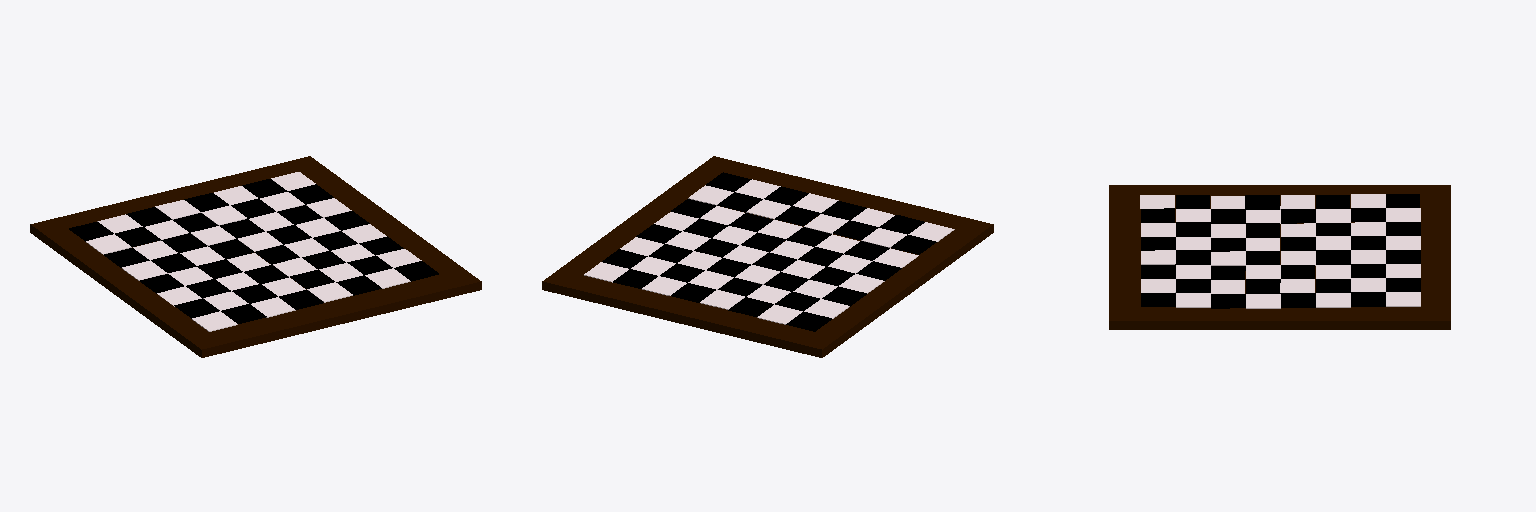
File: chessboardwhitenomarblejoin.obj
3 renders of one model, left to right at view 1: azimuth 30°, elevation 25°; view 2: azimuth 150°, elevation 25°; view 3: azimuth 270°, elevation 25°, orthographic.
Visible parts, largest first — view 1: Cube.049_Cube.168, Cube; view 2: Cube.049_Cube.168, Cube; view 3: Cube.049_Cube.168, Cube.
Boxes of the visible parts, <box> form: Cube.049_Cube.168: <box>69,172,438,331</box>; Cube: <box>30,156,481,357</box>; Cube.049_Cube.168: <box>584,172,954,331</box>; Cube: <box>542,156,993,357</box>; Cube.049_Cube.168: <box>1140,194,1420,308</box>; Cube: <box>1109,185,1450,329</box>.
Bounding box in the file's own units: 6.85 × 0.2587 × 7.26.